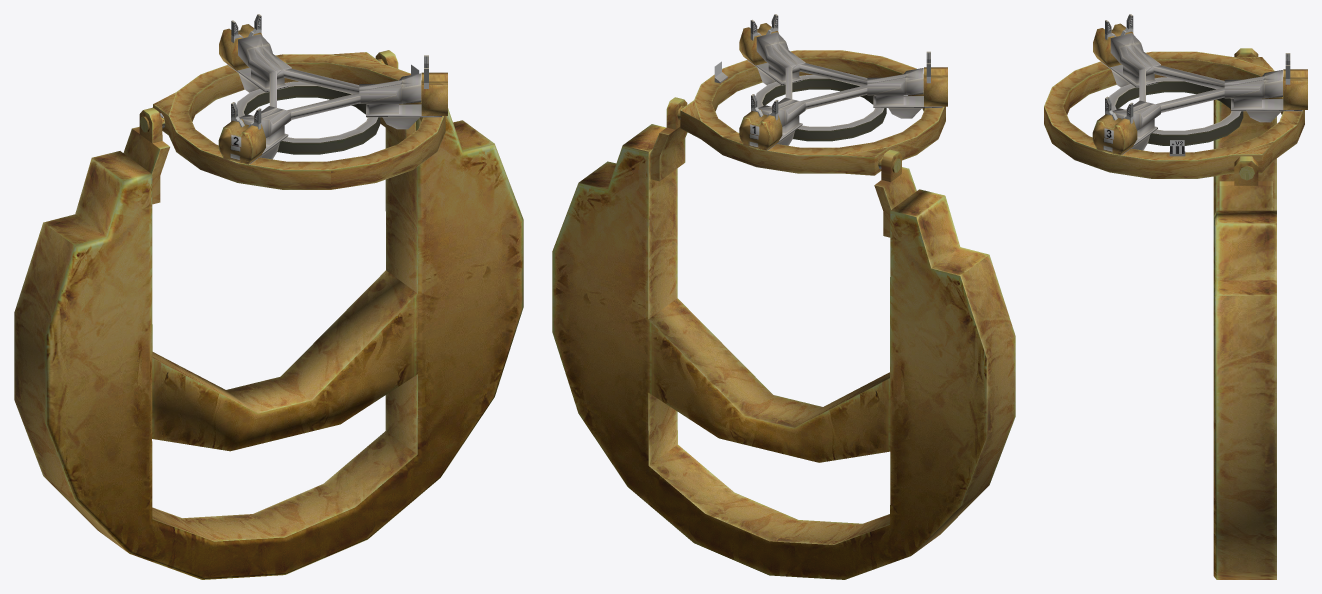
The model's file is Flight System Support.glb.
3 views of the same model, side by side, from view 1: azimuth 30°, elevation 25°; view 2: azimuth 150°, elevation 25°; view 3: azimuth 270°, elevation 25° (orthographic). The views are drawn at different scales.
Visible parts, largest first — view 1: spaceshutt; view 2: spaceshutt; view 3: spaceshutt.
Part boxes in pixels (box(x1,y1,x2,y2)): spaceshutt: box(14, 14, 523, 579); spaceshutt: box(552, 14, 1015, 579); spaceshutt: box(1044, 14, 1307, 579).
Bounding box in the file's own units: 172 × 182 × 87.69.
Materials: 1 (1 with a texture image).
